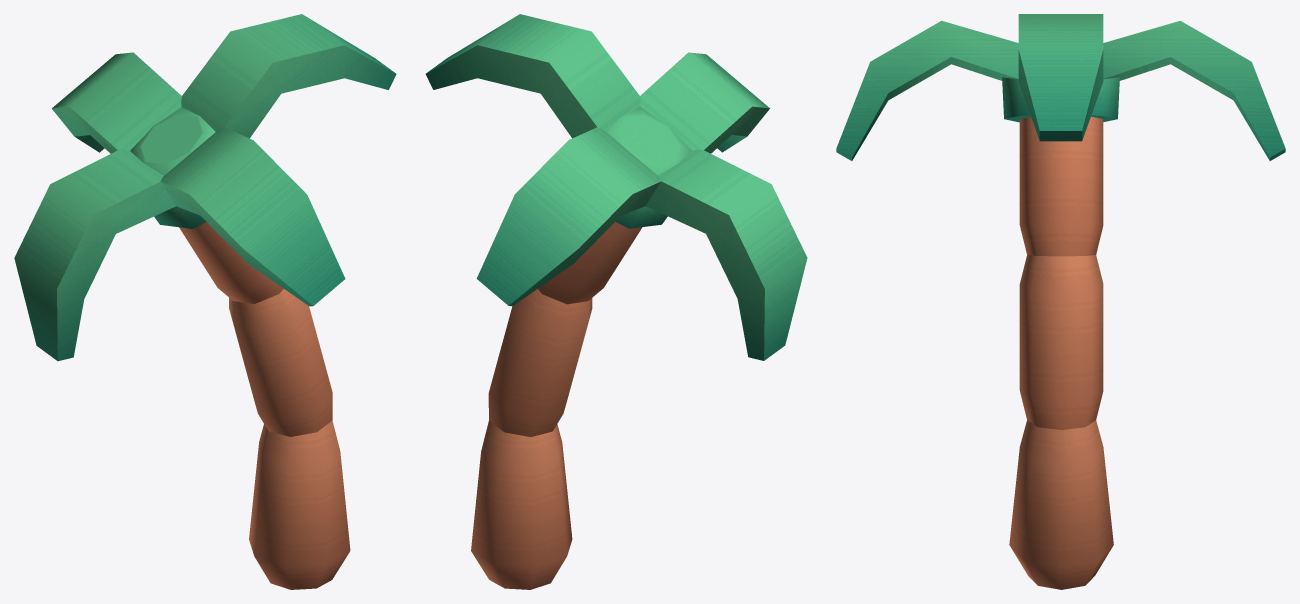
The model's file is palm-bend.002_lev2.glb.
3 views of the same model, side by side, from view 1: azimuth 30°, elevation 25°; view 2: azimuth 150°, elevation 25°; view 3: azimuth 270°, elevation 25° (orthographic).
Visible parts, largest first — view 1: palm-bend.002_lev2; view 2: palm-bend.002_lev2; view 3: palm-bend.002_lev2.
Boxes of the visible parts, box(x1,y1,x2,y2) form: palm-bend.002_lev2: box(14, 14, 396, 589); palm-bend.002_lev2: box(425, 14, 807, 589); palm-bend.002_lev2: box(836, 14, 1285, 589).
Bounding box in the file's own units: 5.98 × 8.82 × 6.67.
1 material, 1 textured.
